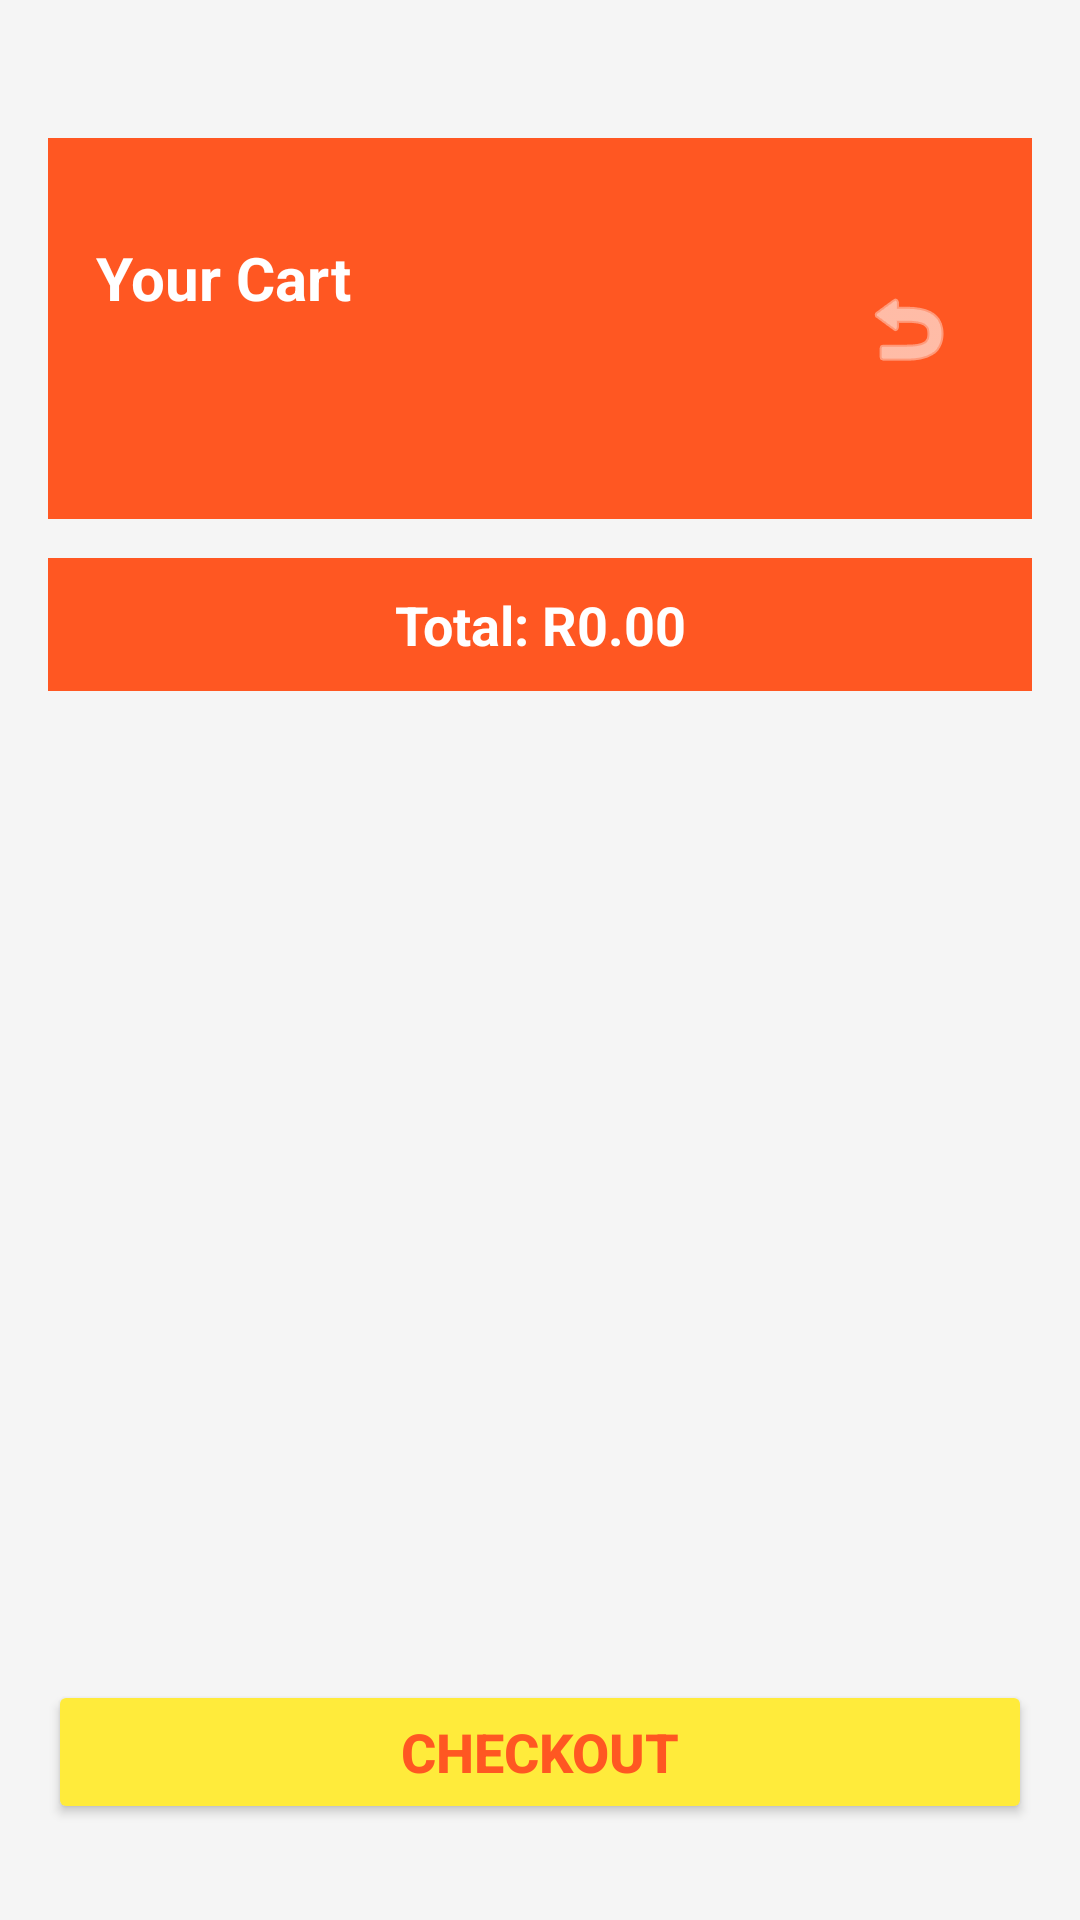

Icon bounding boxes for this 1080 x 1920 phone screenshot, format (x1, y1, x2, y2):
revert: (875, 298, 944, 361)
